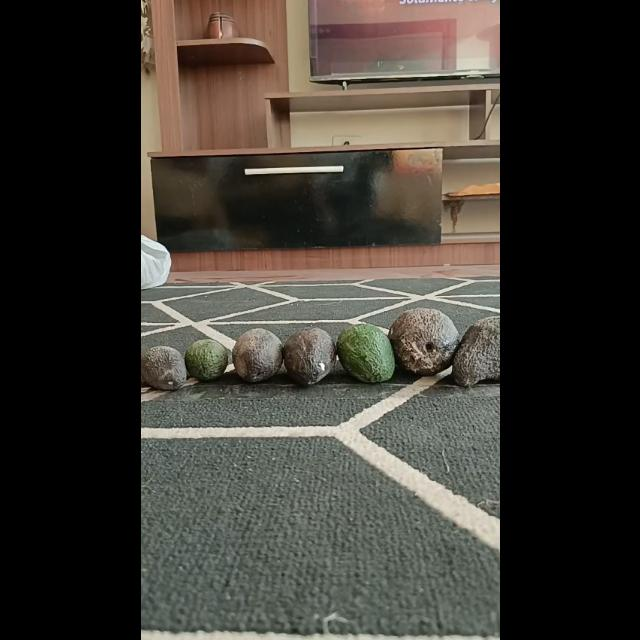Primera: (386, 306, 459, 376), (450, 315, 500, 387)
Segunda: (336, 323, 394, 382), (282, 328, 336, 386), (230, 328, 284, 382)
Tercera: (140, 345, 187, 391), (184, 338, 228, 382)
